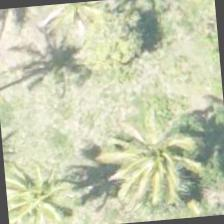Kelapa_Sawit: (116, 100, 214, 198), (3, 145, 83, 223)
